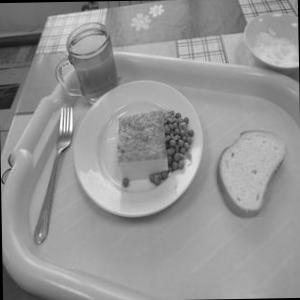bread: (212, 114, 292, 230)
casserole: (105, 92, 190, 189)
tea: (51, 21, 126, 102)
